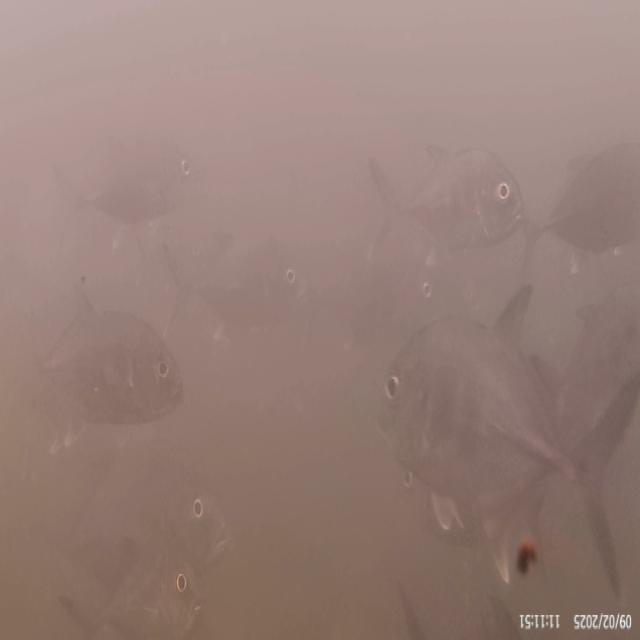ikan: (362, 300, 634, 535), (374, 123, 544, 273), (37, 285, 193, 419)
